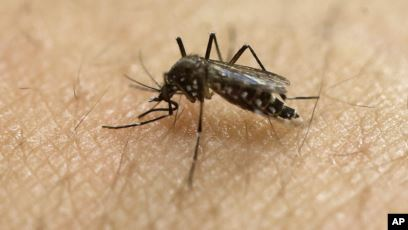dengue_mosquito: (97, 32, 319, 174)
